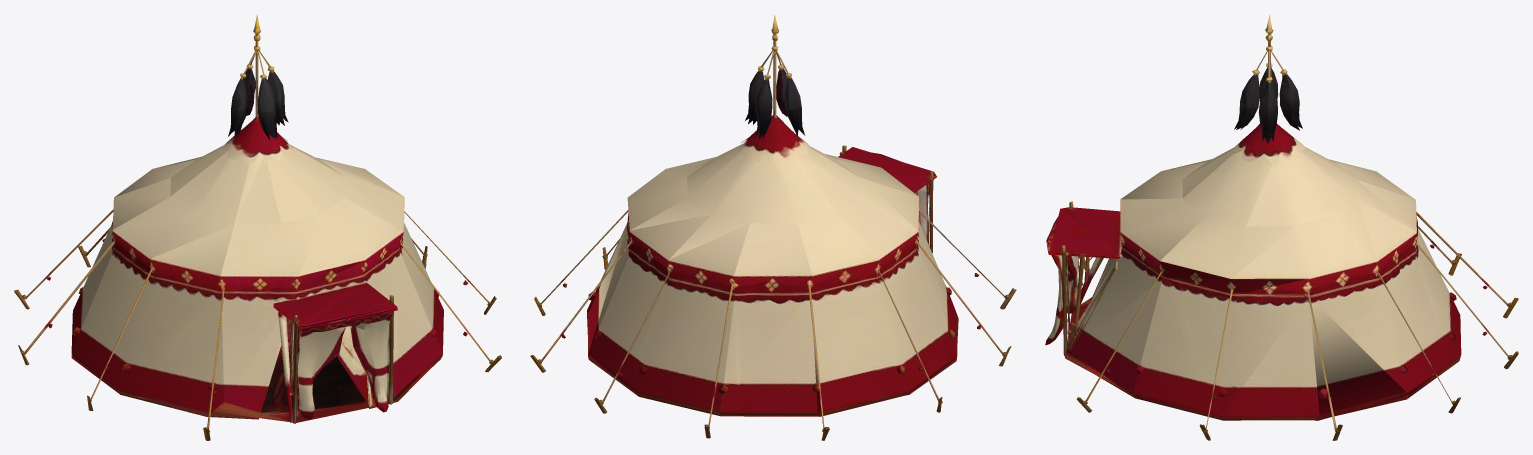
The model's file is campaign-tent.glb.
3 renders of one model, left to right at view 1: azimuth 30°, elevation 25°; view 2: azimuth 150°, elevation 25°; view 3: azimuth 270°, elevation 25°, orthographic.
Parts seen in each view (by area): view 1: mesh_node; view 2: mesh_node; view 3: mesh_node.
Part boxes in pixels (box(x1,y1,x2,y2)): mesh_node: box(14, 14, 501, 440); mesh_node: box(530, 15, 1016, 440); mesh_node: box(1045, 15, 1518, 440).
Size of the model in its own units: 5.47 by 4.2 by 5.47.
Materials: 1 (1 with a texture image).
